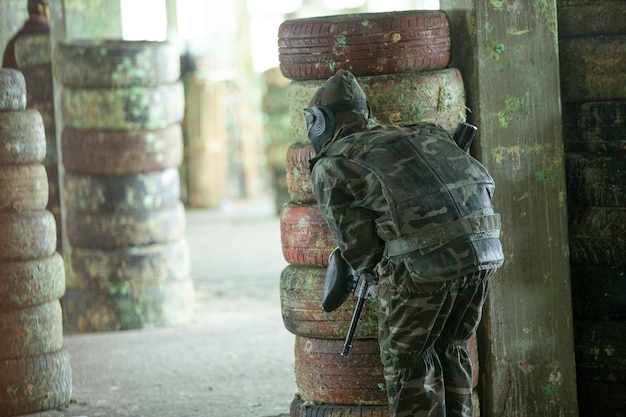gun: (323, 121, 479, 360)
